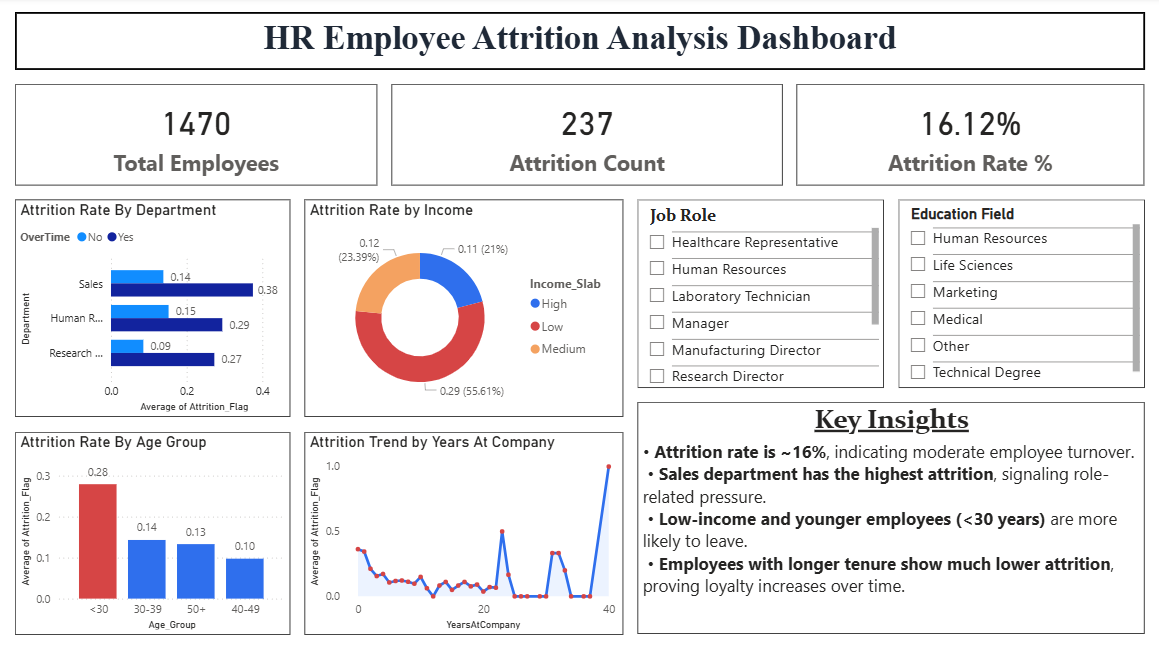

This screenshot's page, from the dashboard's own definition file:
{"tool":"powerbi","page":{"name":"Page 1","canvas":[1280,720],"ordinal":0},"visuals":[{"type":"card","fields":{"Values":["hr_attrition_cleaned.Total_Employees"]},"box":[16,96,400,112],"z":0},{"type":"card","fields":{"Values":["hr_attrition_cleaned.Total_Attrition"]},"box":[432,96,432,112],"z":1000},{"type":"card","fields":{"Values":["hr_attrition_cleaned.Attrition_Rate"]},"box":[880,96,384,112],"z":2000},{"type":"textbox","box":[16,16,1248,64],"z":3000},{"type":"clusteredBarChart","title":"Attrition Rate By Department","fields":{"Category":["hr_attrition_cleaned.Department"],"Y":["Avg(hr_attrition_cleaned.Attrition_Flag)"],"Series":["hr_attrition_cleaned.OverTime"]},"box":[16,224,304,240],"z":4000},{"type":"clusteredColumnChart","title":"Attrition Rate By Age Group","fields":{"Category":["hr_attrition_cleaned.Age_Group"],"Y":["Avg(hr_attrition_cleaned.Attrition_Flag)"]},"box":[16,480,304,224],"z":5000},{"type":"donutChart","title":"Attrition Rate by Income","fields":{"Y":["Avg(hr_attrition_cleaned.Attrition_Flag)"],"Series":["hr_attrition_cleaned.Income_Slab"]},"box":[336,224,352,240],"z":6000},{"type":"slicer","fields":{"Values":["hr_attrition_cleaned.JobRole"]},"box":[704,224,272,208],"z":7000},{"type":"slicer","fields":{"Values":["hr_attrition_cleaned.EducationField"]},"box":[992,224,272,208],"z":8000},{"type":"areaChart","title":"Attrition Trend by Years At Company","fields":{"Category":["hr_attrition_cleaned.YearsAtCompany"],"Y":["Avg(hr_attrition_cleaned.Attrition_Flag)"]},"box":[336,480,352,224],"z":9000},{"type":"textbox","title":"Key Insights","box":[704,448,560,256],"z":9001}]}

Visuals, with their boxes in screenshot pixels (x1, y1, x2, y2), scaled from the page's 1280x720 canvas onto the 1159x647 screenshot:
card - hr_attrition_cleaned.Total_Employees: 14/86/377/187
card - hr_attrition_cleaned.Total_Attrition: 391/86/782/187
card - hr_attrition_cleaned.Attrition_Rate: 797/86/1145/187
textbox: 14/14/1145/72
"Attrition Rate By Department" clusteredBarChart: 14/201/290/417
"Attrition Rate By Age Group" clusteredColumnChart: 14/431/290/633
"Attrition Rate by Income" donutChart: 304/201/623/417
slicer - hr_attrition_cleaned.JobRole: 637/201/884/388
slicer - hr_attrition_cleaned.EducationField: 898/201/1145/388
"Attrition Trend by Years At Company" areaChart: 304/431/623/633
"Key Insights" textbox: 637/403/1145/633
